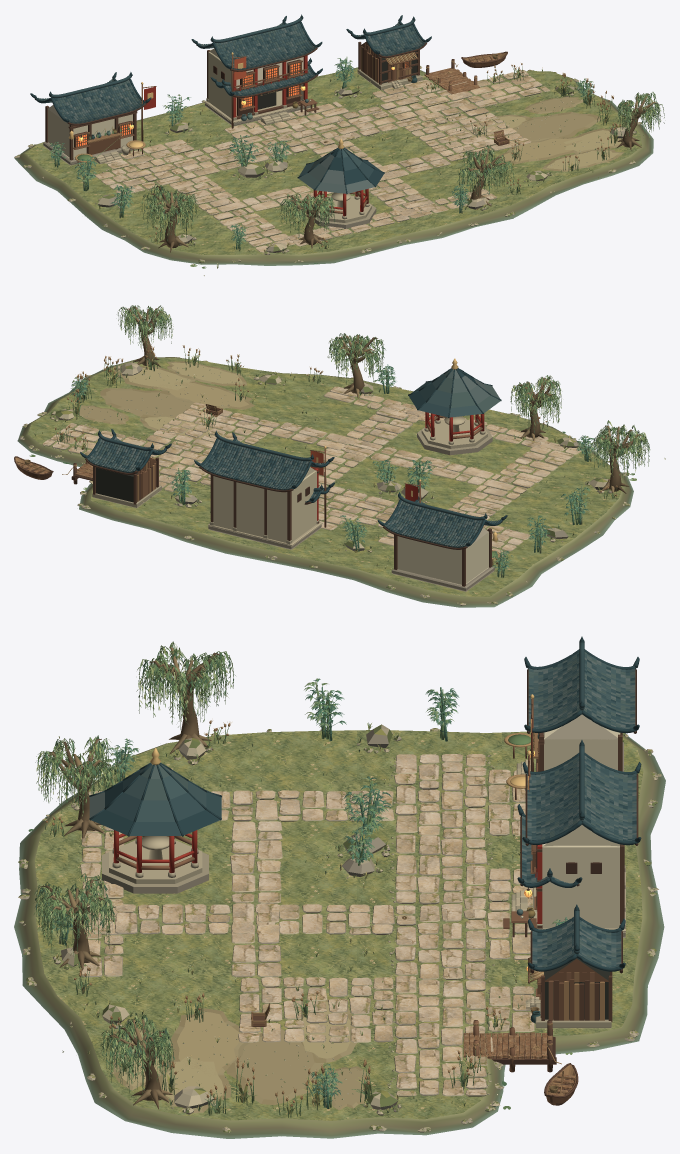
The model's file is ferry.glb.
The picture shows the model from 3 angles, top to bottom: view 1: azimuth 30°, elevation 25°; view 2: azimuth 150°, elevation 25°; view 3: azimuth 270°, elevation 25°; orthographic projection. The views are drawn at different scales.
Visible parts, largest first — view 1: Continuous meadow, Individually cut flagstones and grit, Mossy bank blending into damp silt, Jointed bamboo, meadow blades and foxtail reeds, Exposed mud, patches of sand and gravel, Inn swept barrel-tile gables and porch canopy, Inn stone plinth, plaster and timber frame, Apothecary swept tile roof, Pavilion swept octagonal roof and finial, Apothecary stone plinth and whitewashed hall, Weathered shoreline stones and mossy outcrops, Boathouse fired tile gable and reed awning (+17 smaller); view 2: Continuous meadow, Individually cut flagstones and grit, Mossy bank blending into damp silt, Exposed mud, patches of sand and gravel, Jointed bamboo, meadow blades and foxtail reeds, Inn stone plinth, plaster and timber frame, Inn swept barrel-tile gables and porch canopy, Apothecary stone plinth and whitewashed hall, Apothecary swept tile roof, Pavilion swept octagonal roof and finial, Pavilion octagonal plinth, pillars and stone table, Weathered shoreline stones and mossy outcrops (+12 smaller); view 3: Continuous meadow, Individually cut flagstones and grit, Mossy bank blending into damp silt, Exposed mud, patches of sand and gravel, Jointed bamboo, meadow blades and foxtail reeds, Inn swept barrel-tile gables and porch canopy, Inn stone plinth, plaster and timber frame, Apothecary swept tile roof, Pavilion swept octagonal roof and finial, Pavilion octagonal plinth, pillars and stone table, Boathouse stone sill and boarded timber siding, Weathered shoreline stones and mossy outcrops (+14 smaller).
Boxes of the visible parts, x1,y1,x2,y2 form: Continuous meadow: (25, 67, 641, 254); Individually cut flagstones and grit: (93, 70, 550, 252); Mossy bank blending into damp silt: (14, 67, 653, 265); Jointed bamboo, meadow blades and foxtail reeds: (37, 57, 628, 275); Exposed mud, patches of sand and gravel: (449, 96, 623, 171); Inn swept barrel-tile gables and porch canopy: (191, 14, 322, 97); Inn stone plinth, plaster and timber frame: (204, 48, 310, 126); Apothecary swept tile roof: (30, 72, 151, 125); Pavilion swept octagonal roof and finial: (297, 138, 384, 194); Apothecary stone plinth and whitewashed hall: (43, 105, 137, 165); Weathered shoreline stones and mossy outcrops: (94, 84, 636, 254); Boathouse fired tile gable and reed awning: (346, 15, 431, 65); Continuous meadow: (28, 358, 623, 596); Individually cut flagstones and grit: (42, 386, 581, 558); Mossy bank blending into damp silt: (17, 357, 633, 607); Exposed mud, patches of sand and gravel: (70, 361, 254, 441); Jointed bamboo, meadow blades and foxtail reeds: (34, 345, 665, 593); Inn stone plinth, plaster and timber frame: (208, 467, 322, 549); Inn swept barrel-tile gables and porch canopy: (194, 430, 334, 504); Apothecary stone plinth and whitewashed hall: (391, 528, 494, 591); Apothecary swept tile roof: (377, 492, 507, 549); Pavilion swept octagonal roof and finial: (408, 358, 501, 417); Pavilion octagonal plinth, pillars and stone table: (417, 412, 492, 455); Weathered shoreline stones and mossy outcrops: (50, 362, 611, 552); Continuous meadow: (34, 730, 643, 1120); Individually cut flagstones and grit: (80, 754, 534, 1096); Mossy bank blending into damp silt: (14, 731, 665, 1138); Exposed mud, patches of sand and gravel: (113, 999, 370, 1112); Jointed bamboo, meadow blades and foxtail reeds: (45, 678, 623, 1117); Inn swept barrel-tile gables and porch canopy: (517, 740, 641, 887); Inn stone plinth, plaster and timber frame: (511, 825, 625, 937); Apothecary swept tile roof: (524, 636, 639, 733); Pavilion swept octagonal roof and finial: (89, 748, 221, 836); Pavilion octagonal plinth, pillars and stone table: (102, 830, 208, 893); Boathouse stone sill and boarded timber siding: (526, 958, 612, 1028); Weathered shoreline stones and mossy outcrops: (52, 724, 401, 1115).
Size of the model in its own units: 18.82 by 3.17 by 12.62.
68 materials, 3 textured.
